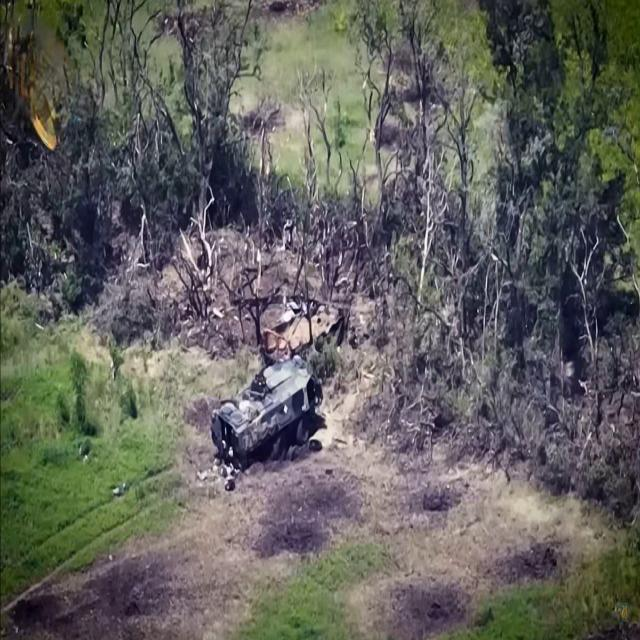APC: (209, 364, 327, 481)
Destroyed: (261, 299, 345, 367)
